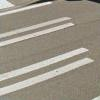Crosswalk: (4, 19, 81, 85)
